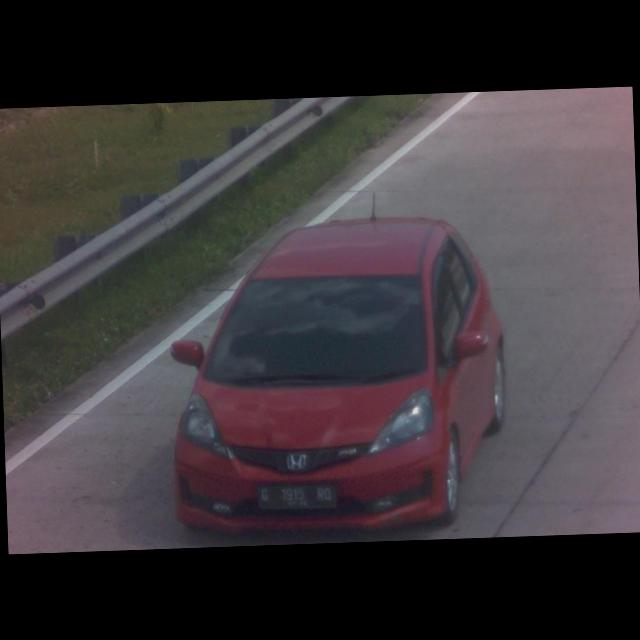plate: (255, 482, 342, 514)
